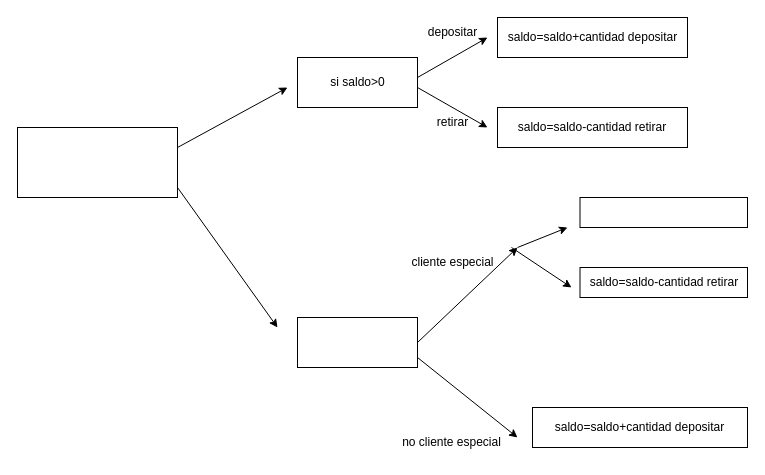
The diagram is 765 pixels wide and 475 high, and some of its shapes have lost their labels. The box of each missing label's shape, as (x1, y1, x2, y2) in pixels:
Saldo Cantidad retirar Cantidad depositar Cliente especial(si o no): (16, 126, 178, 198)
saldo=saldo+cantidad retirar: (579, 196, 748, 228)
si saldo<0: (296, 316, 418, 368)
